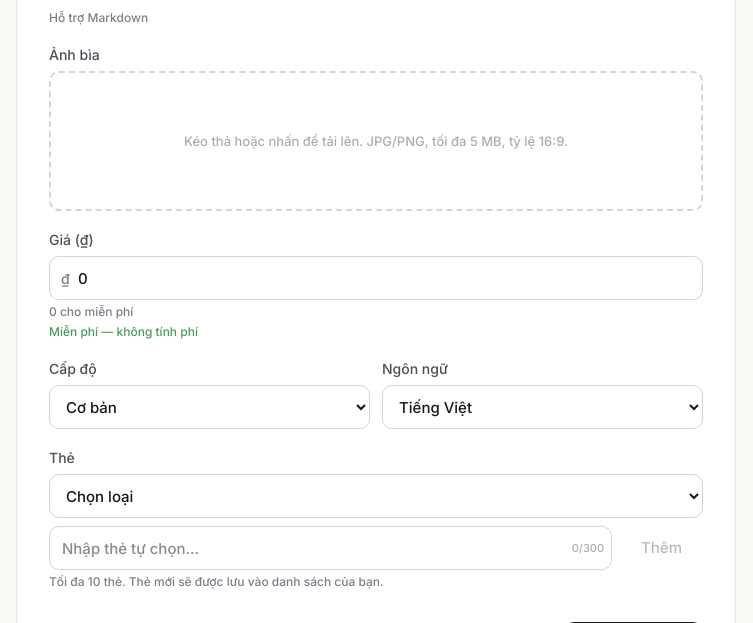
Test: NewCoursePage › fee preview updates in real-time as price changes
(page scrolled)
Replace the text in the number field with test id "course-price-input" with "200000" at (376, 278), box [49, 256, 703, 300]
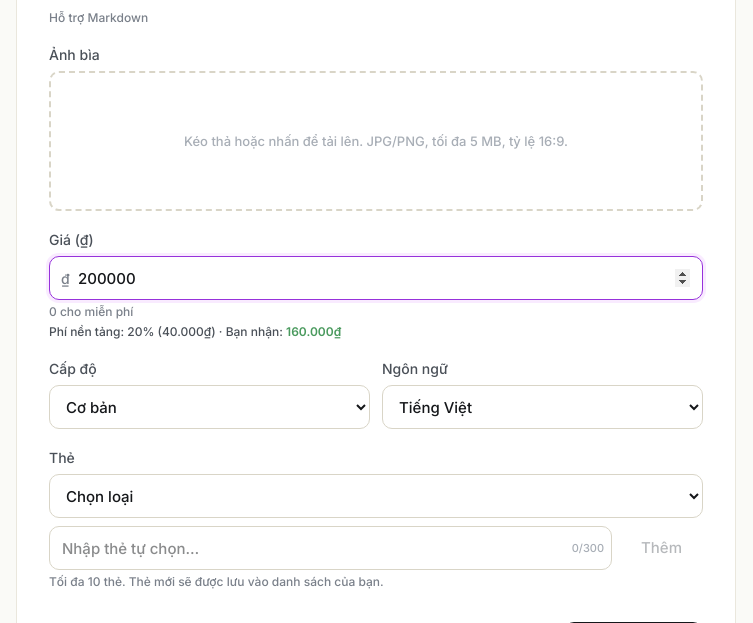
expect the element with test id "fee-preview" shows "40.000": met, box [158, 324, 216, 339]
